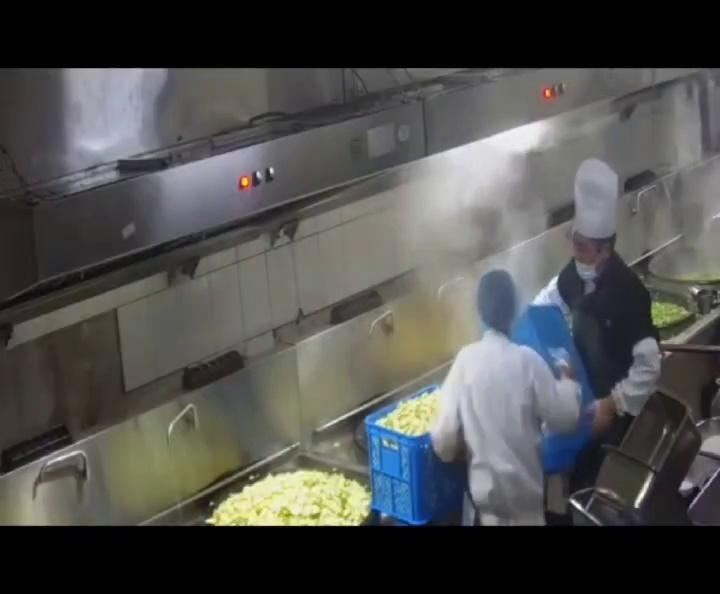mask: (571, 247, 604, 280)
